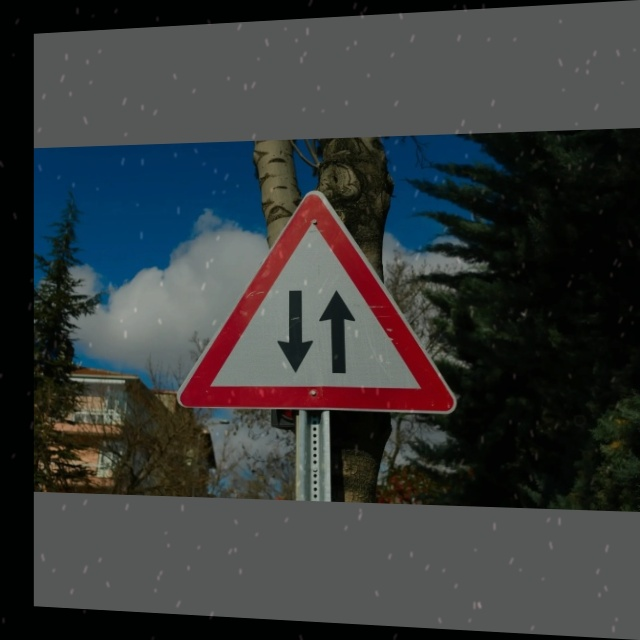Mandatory_Two_Way_Traffic: (178, 188, 457, 418)
